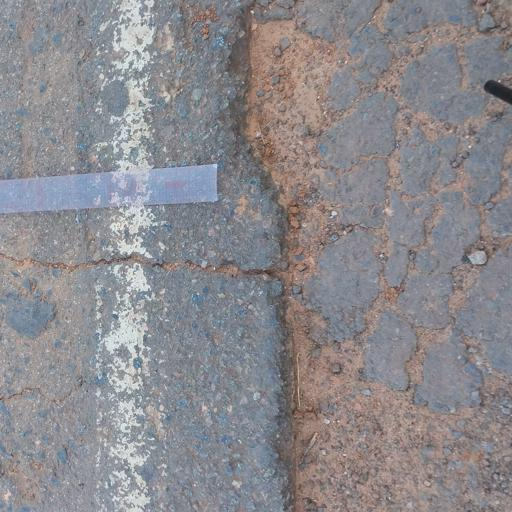BACHE: (282, 305, 511, 511), (235, 0, 329, 307)
GRIETA: (0, 250, 281, 280), (0, 374, 88, 409)
PIEL DE COCODRILO: (249, 0, 511, 417)
